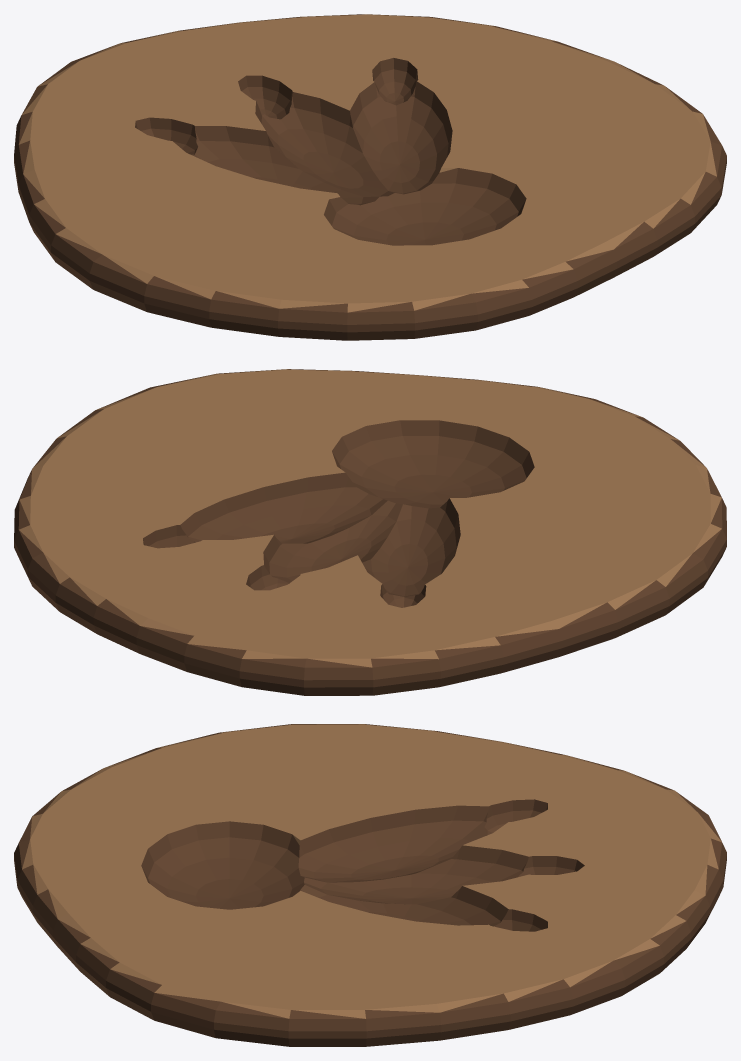
The model's file is pegada-rex.glb.
3 renders of one model, top to bottom at view 1: azimuth 30°, elevation 25°; view 2: azimuth 150°, elevation 25°; view 3: azimuth 270°, elevation 25°, orthographic.
Parts seen in each view (by area): view 1: pegada-rex; view 2: pegada-rex; view 3: pegada-rex.
Part boxes in pixels (x1,y1,x2,y2): pegada-rex: [14, 14, 726, 340]; pegada-rex: [14, 369, 726, 695]; pegada-rex: [14, 724, 726, 1046].
Size of the model in its own units: 0.8788 by 0.05 by 0.8861.
